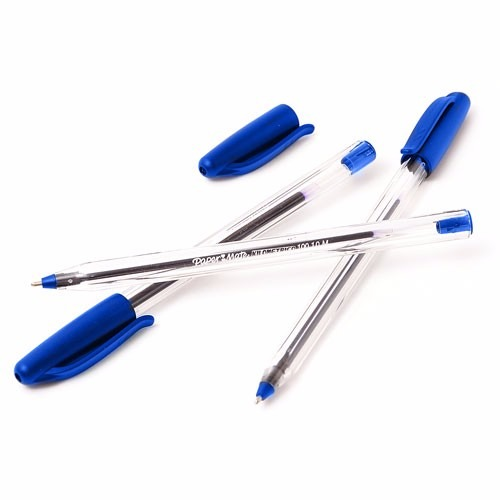Boligrafo: (18, 142, 381, 390), (253, 91, 472, 405), (27, 209, 480, 289)
